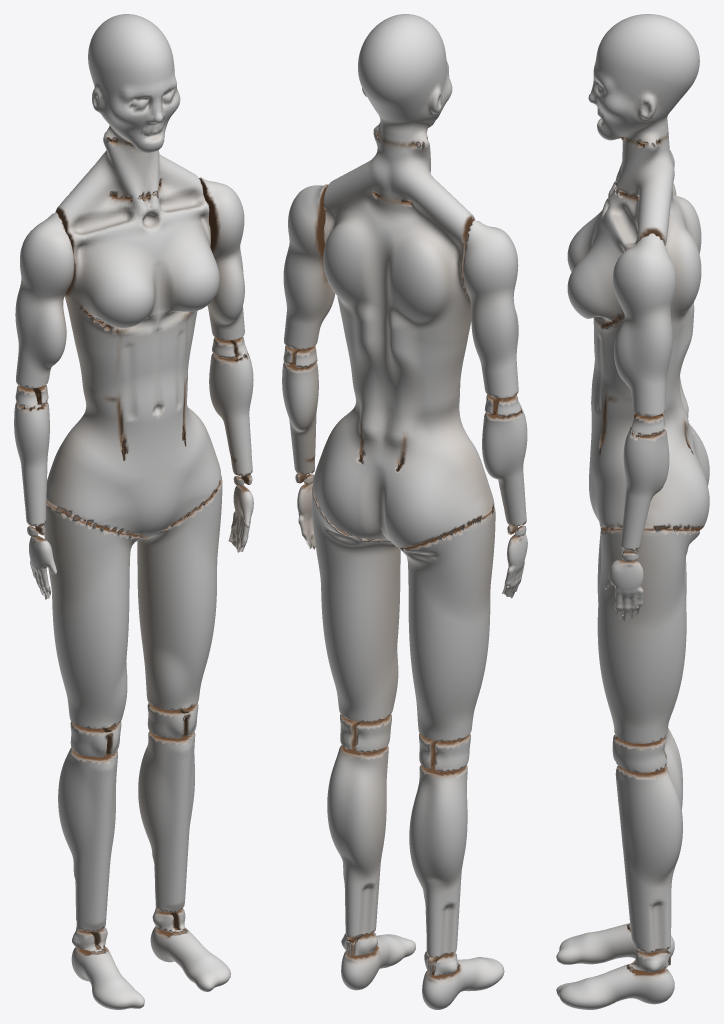
The model's file is mannequin-female.glb.
3 renders of one model, left to right at view 1: azimuth 30°, elevation 25°; view 2: azimuth 150°, elevation 25°; view 3: azimuth 270°, elevation 25°, orthographic. The views are drawn at different scales.
Visible parts, largest first — view 1: WoodenHumanoidMannequin; view 2: WoodenHumanoidMannequin; view 3: WoodenHumanoidMannequin.
Part boxes in pixels (left/top/right/bottom): WoodenHumanoidMannequin: left=14, top=14, right=253, bottom=1009; WoodenHumanoidMannequin: left=282, top=14, right=527, bottom=1009; WoodenHumanoidMannequin: left=556, top=14, right=709, bottom=1009.
Size of the model in its own units: 0.4612 by 1.8 by 0.2589.
